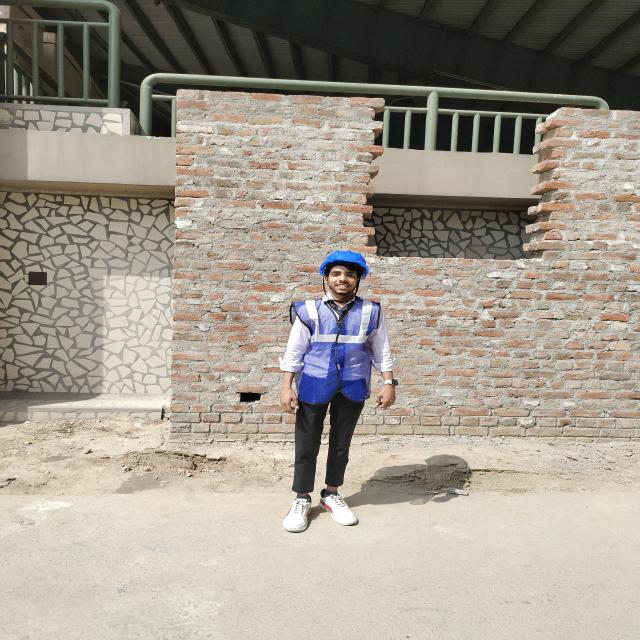safe: (280, 250, 395, 532)
